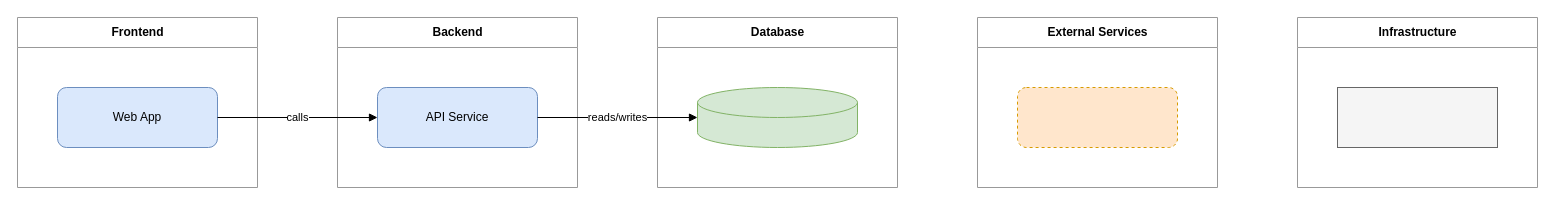
Image size: 1555x205. Some labels were removed from this diagram. The centre of each missing label's shape, as x and y in pixels:
"Cache" belongs at pixel 1417 117.
"Payment Gateway" belongs at pixel 1097 117.
"Primary DB" belongs at pixel 777 117.
